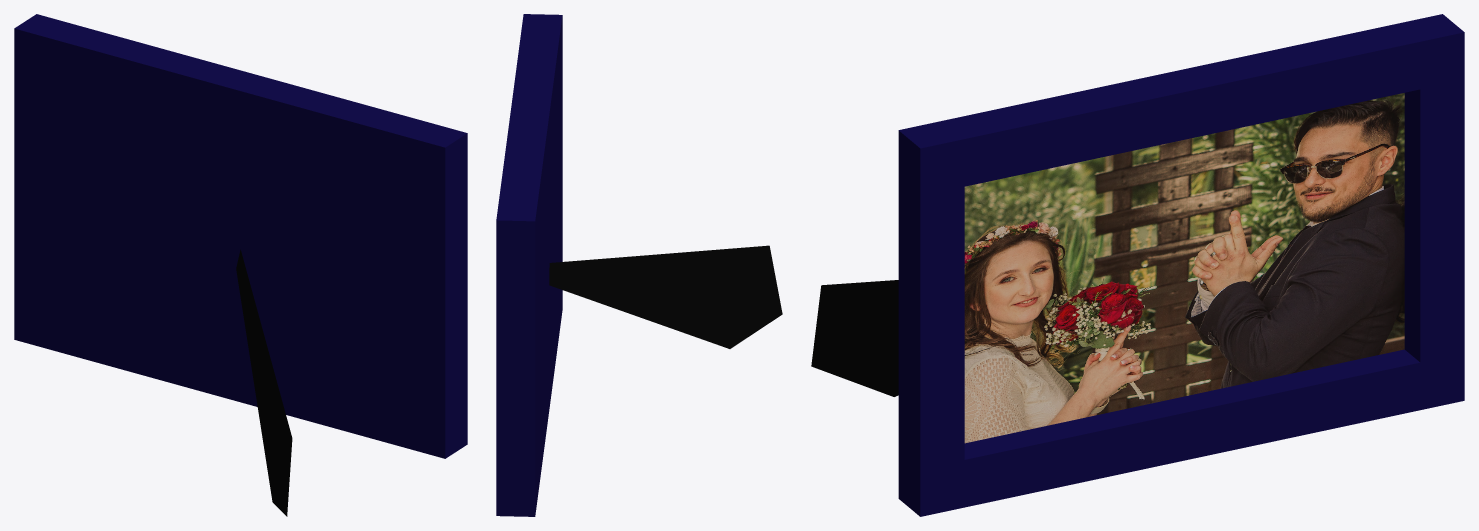
Rendered from small_frame_me_wife.glb.
3 views of the same model, side by side, from view 1: azimuth 30°, elevation 25°; view 2: azimuth 150°, elevation 25°; view 3: azimuth 270°, elevation 25° (orthographic). The views are drawn at different scales.
Visible parts, largest first — view 1: Cube, Plane; view 2: Cube, Plane; view 3: Cube, Plane.
Part boxes in pixels (left/top/right/bottom): Cube: left=14, top=14, right=467, bottom=458; Plane: left=236, top=249, right=292, bottom=516; Cube: left=496, top=14, right=562, bottom=516; Plane: left=549, top=245, right=782, bottom=348; Cube: left=898, top=14, right=1464, bottom=516; Plane: left=811, top=280, right=898, bottom=396.
Bounding box in the file's own units: 0.1566 × 0.2 × 0.3214.
3 materials, 1 textured.
